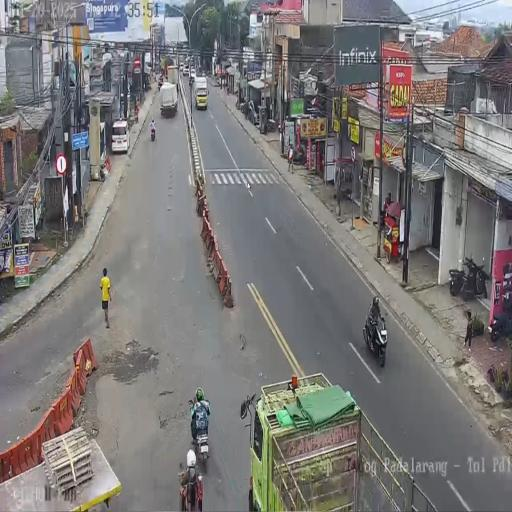car: (111, 118, 130, 154), (182, 65, 189, 77), (190, 67, 196, 80), (184, 57, 190, 66)
motorcycle: (363, 305, 388, 366), (466, 254, 489, 298), (490, 308, 512, 342), (448, 261, 467, 297), (292, 144, 306, 166), (150, 124, 156, 141), (158, 74, 164, 90)
truck: (160, 81, 178, 117), (194, 74, 208, 110), (166, 64, 178, 88), (144, 52, 152, 85)
